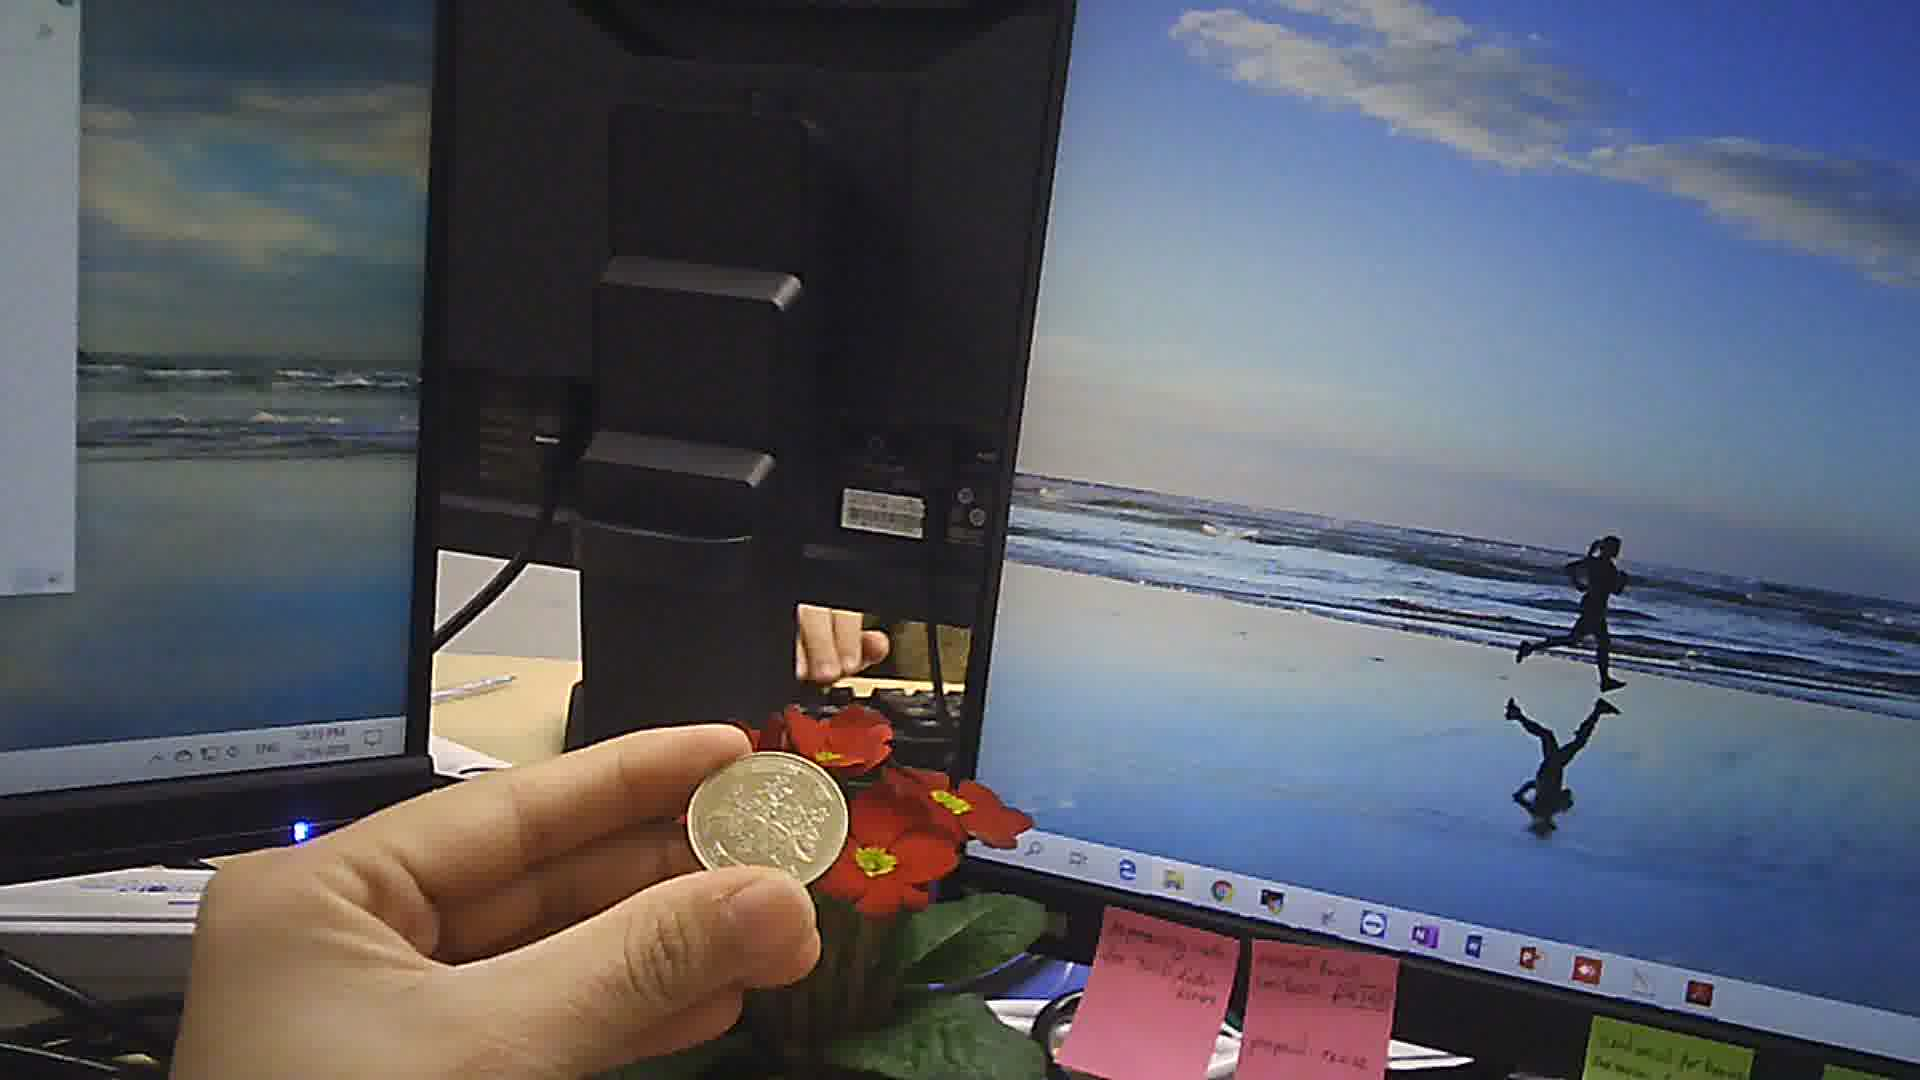500 Yen: (680, 742, 855, 887)
